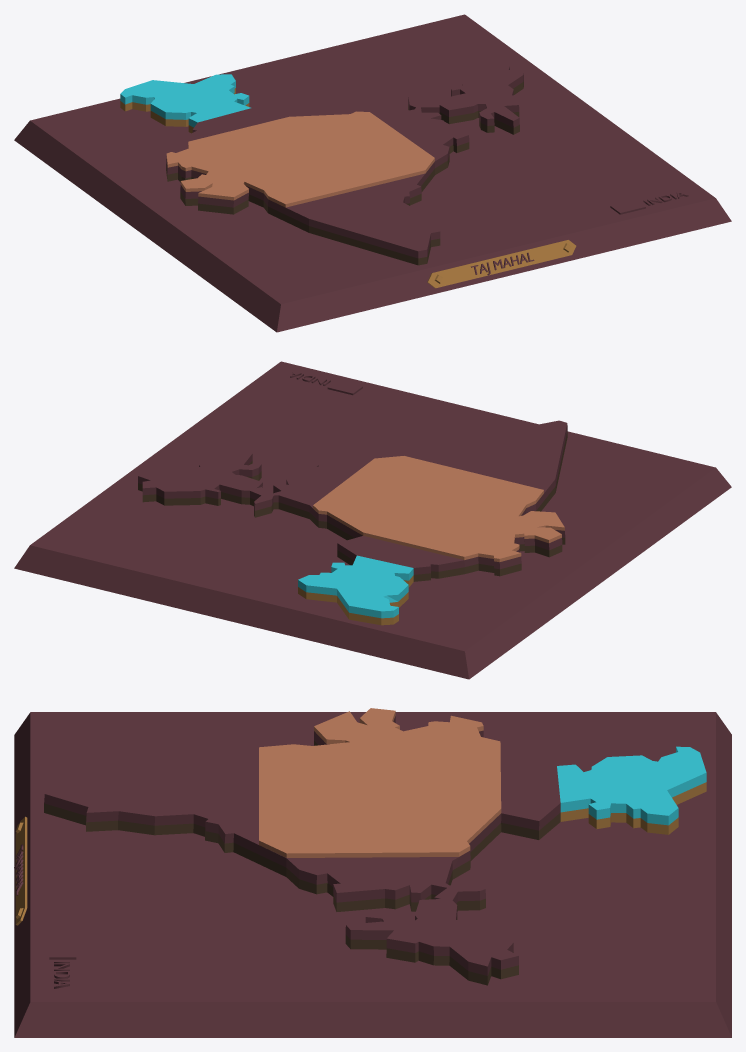
Rendered from SM_Island_TajMahal_Landmark.fbx.
The picture shows the model from 3 angles, top to bottom: view 1: azimuth 30°, elevation 25°; view 2: azimuth 150°, elevation 25°; view 3: azimuth 270°, elevation 25°; orthographic projection. The views are drawn at different scales.
Parts seen in each view (by area): view 1: Island_TajMahal_Landmark; view 2: Island_TajMahal_Landmark; view 3: Island_TajMahal_Landmark.
Part boxes in pixels (left/top/right/bottom): Island_TajMahal_Landmark: left=14, top=14, right=731, bottom=332; Island_TajMahal_Landmark: left=14, top=361, right=731, bottom=679; Island_TajMahal_Landmark: left=14, top=708, right=731, bottom=1037.
Size of the model in its own units: 68.5 by 5.58 by 68.55.
